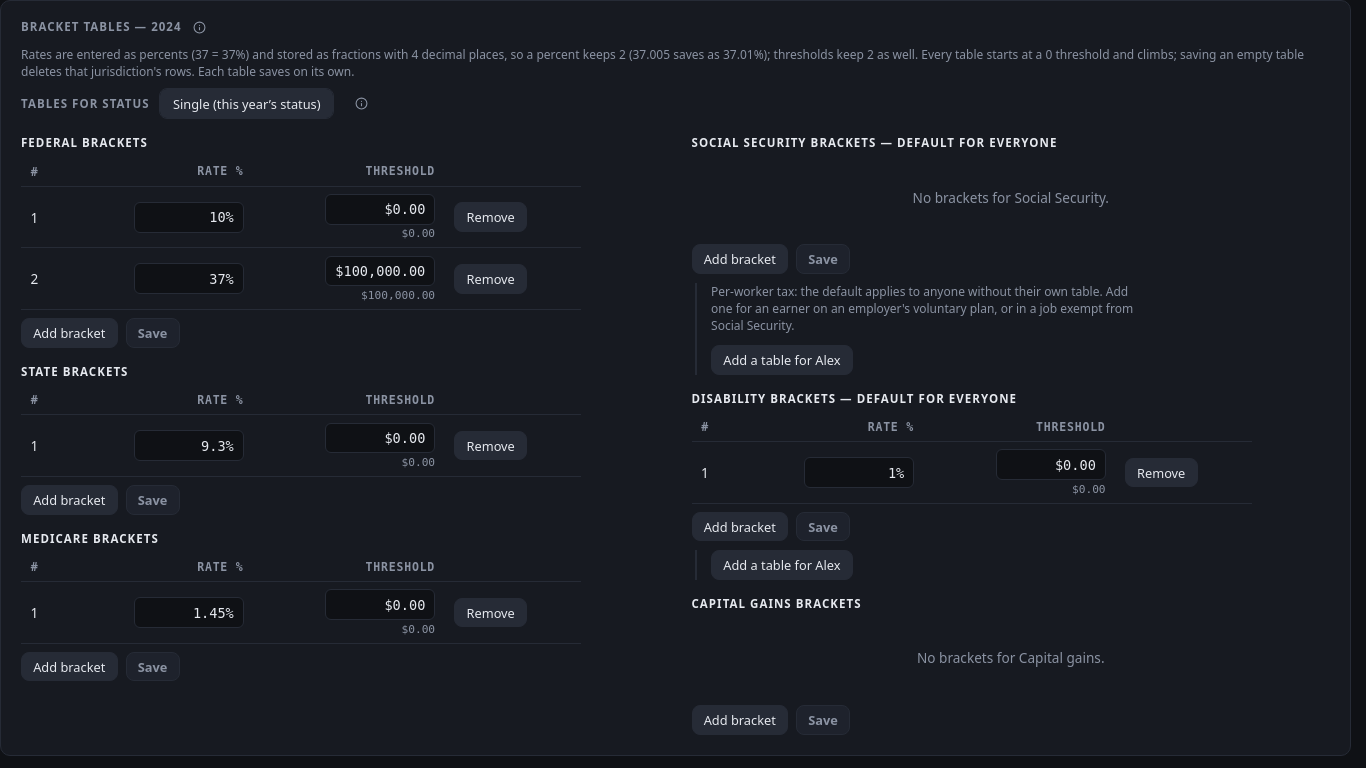
Scenario: BracketsEditor › refuses exponent notation in a rate, which the server would have accepted
Replace the text in the field named "Federal bracket 2 rate (%)" with "1e-3" at (189, 279), box [134, 263, 244, 294]
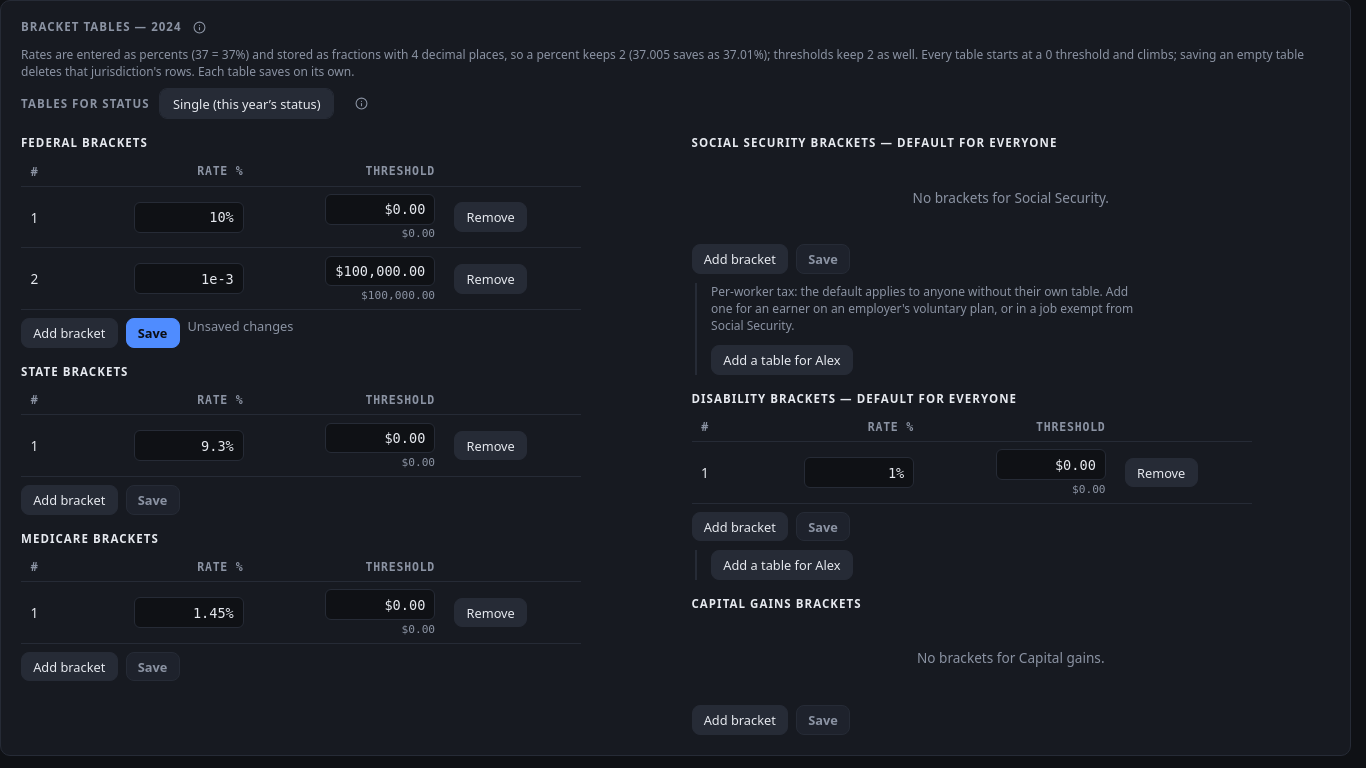
Click the button "Save" next to "Unsaved changes" at (152, 333), box [126, 318, 180, 348]
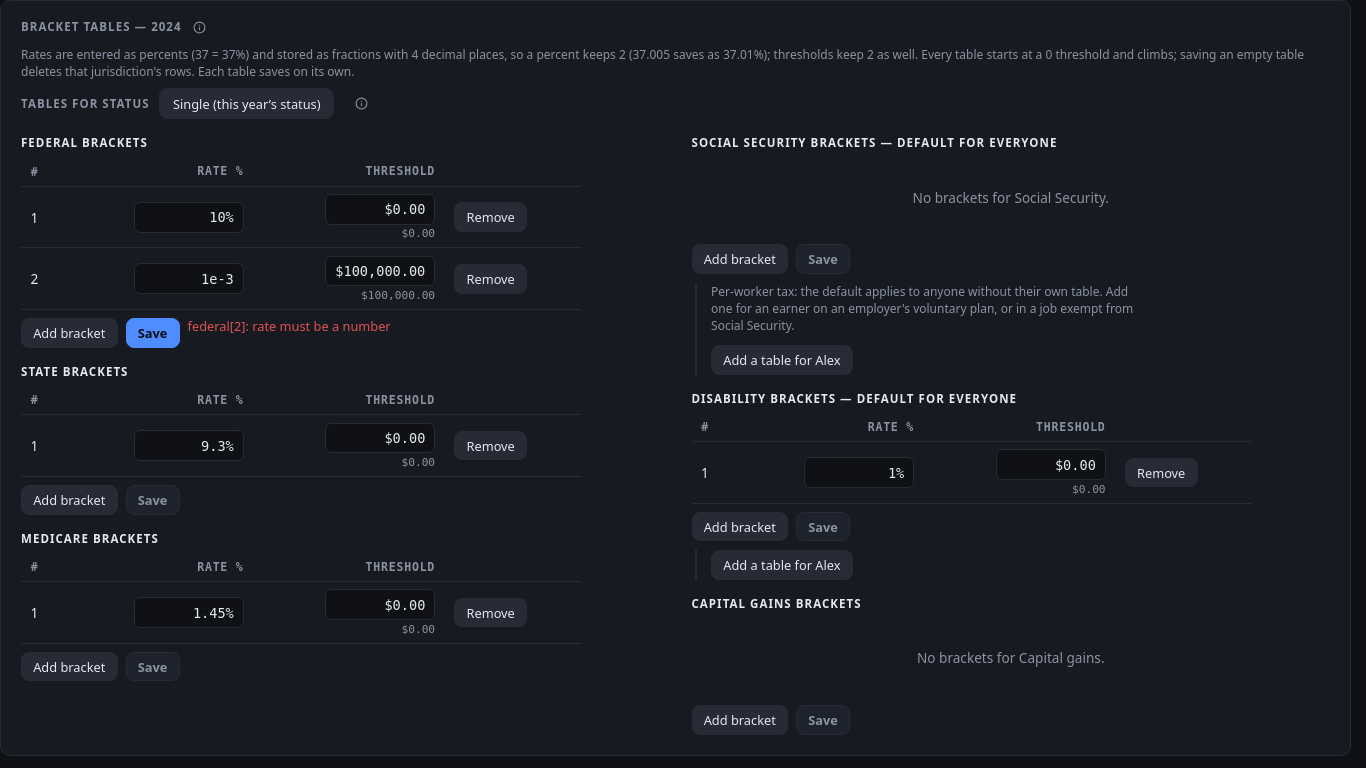
Check: the message reads "federal[2]: rate must be a number", box [188, 317, 391, 335]
